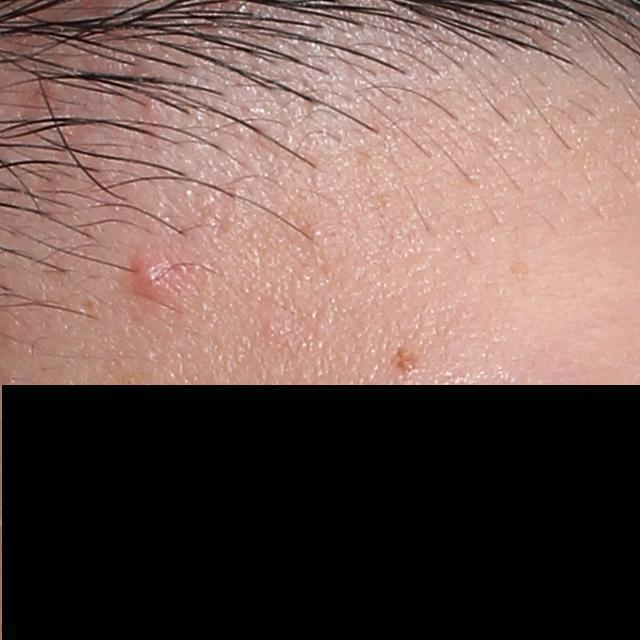nevus: (389, 347, 422, 377)
papule: (127, 253, 172, 294)
